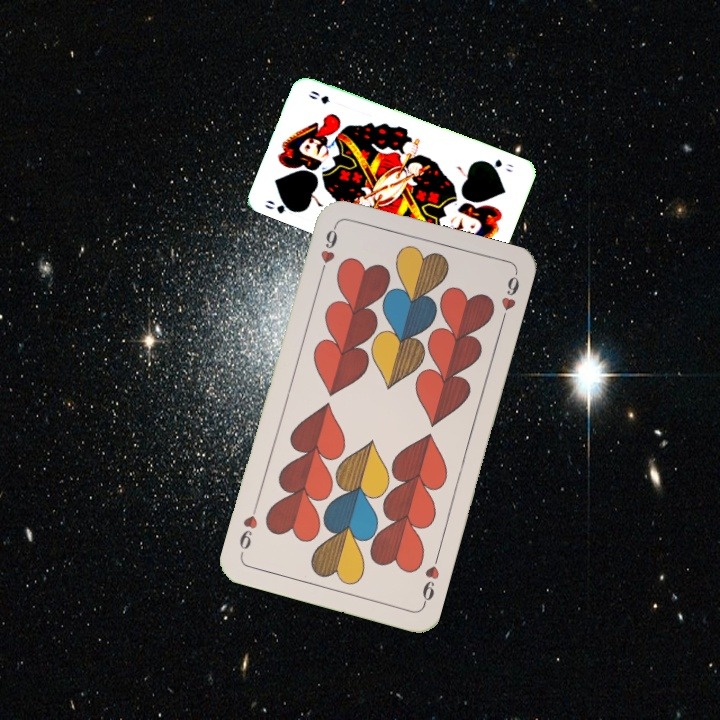GO: (261, 196, 301, 216), (480, 155, 516, 175)
H9: (418, 550, 442, 608), (316, 221, 340, 279)
